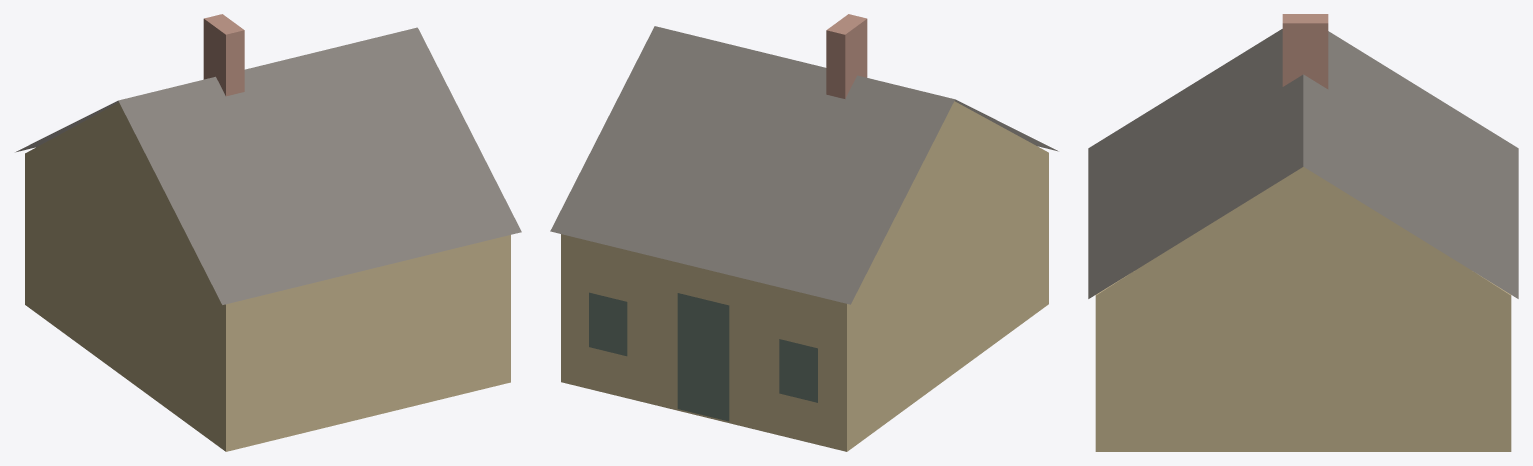
Rendered from recon_1835_north_d3_038__recommended_1835 2.glb.
The picture shows the model from 3 angles, left to right: view 1: azimuth 30°, elevation 25°; view 2: azimuth 150°, elevation 25°; view 3: azimuth 270°, elevation 25°; orthographic projection. The views are drawn at different scales.
Visible parts, largest first — view 1: recon_1835_north_d3_038__recommended_1835; view 2: recon_1835_north_d3_038__recommended_1835; view 3: recon_1835_north_d3_038__recommended_1835.
Part boxes in pixels (left/top/right/bottom): recon_1835_north_d3_038__recommended_1835: left=15, top=14, right=521, bottom=451; recon_1835_north_d3_038__recommended_1835: left=550, top=14, right=1058, bottom=451; recon_1835_north_d3_038__recommended_1835: left=1088, top=14, right=1518, bottom=451.
Size of the model in its own units: 5.77 by 6.05 by 6.95.
